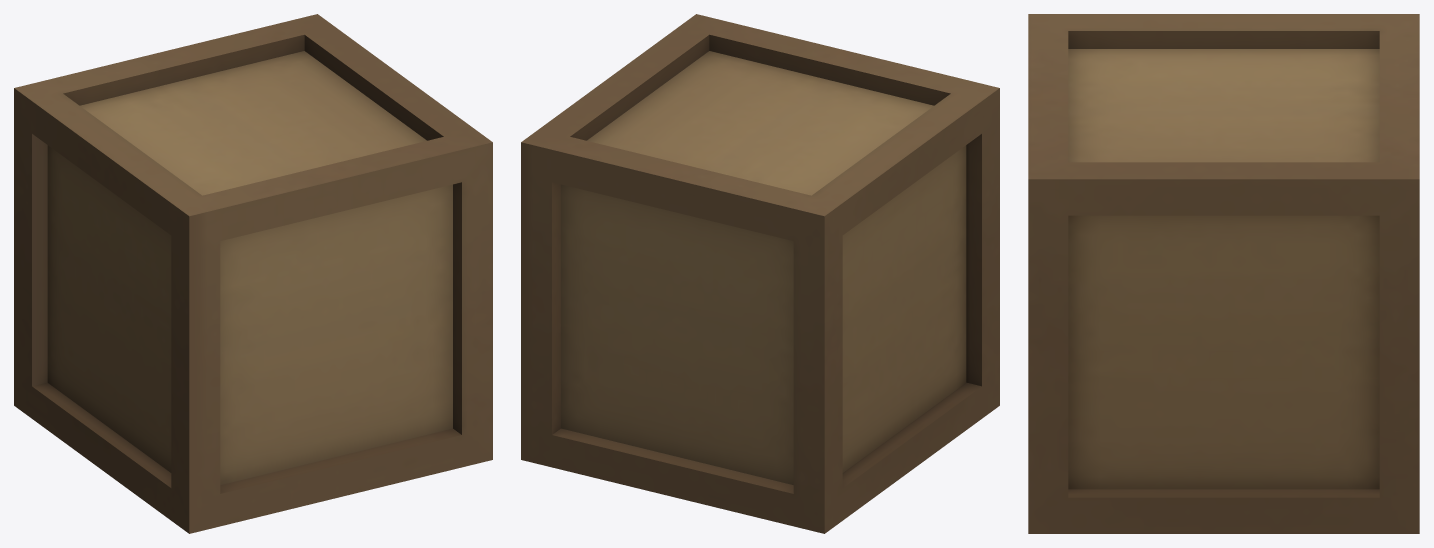
Rendered from newBox.glb.
3 views of the same model, side by side, from view 1: azimuth 30°, elevation 25°; view 2: azimuth 150°, elevation 25°; view 3: azimuth 270°, elevation 25° (orthographic). The views are drawn at different scales.
Visible parts, largest first — view 1: Object_2; view 2: Object_2; view 3: Object_2.
Part boxes in pixels (<box>): Object_2: <box>14,14,492,533</box>; Object_2: <box>521,14,999,533</box>; Object_2: <box>1028,14,1419,533</box>.
Bounding box in the file's own units: 1.49 × 1.49 × 1.49.
1 material, 1 textured.
